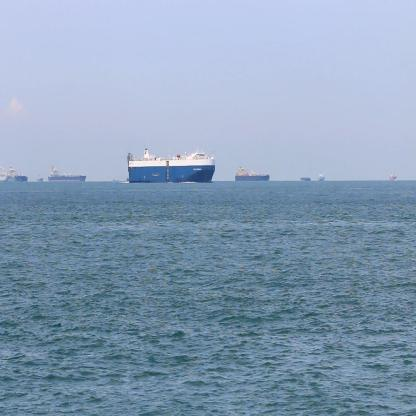Container Ship: (123, 152, 217, 184), (234, 164, 270, 183), (46, 167, 86, 182), (6, 164, 29, 188), (0, 168, 10, 185), (314, 171, 325, 185), (389, 170, 397, 184)
